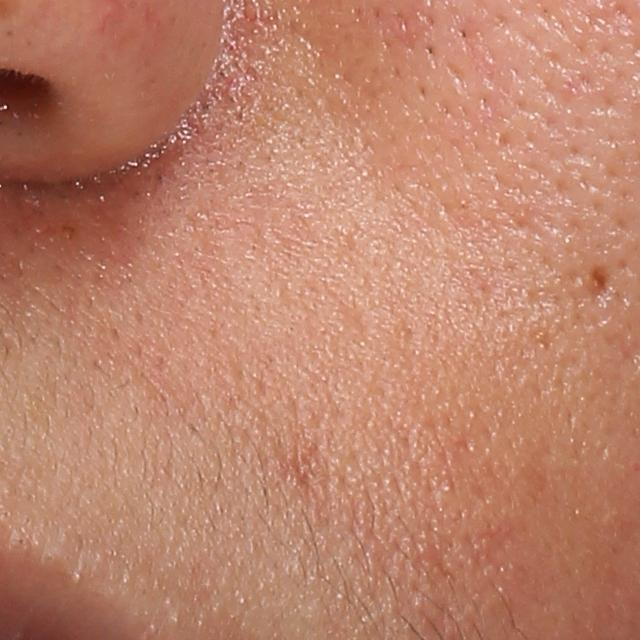nevus: (586, 261, 612, 304)
